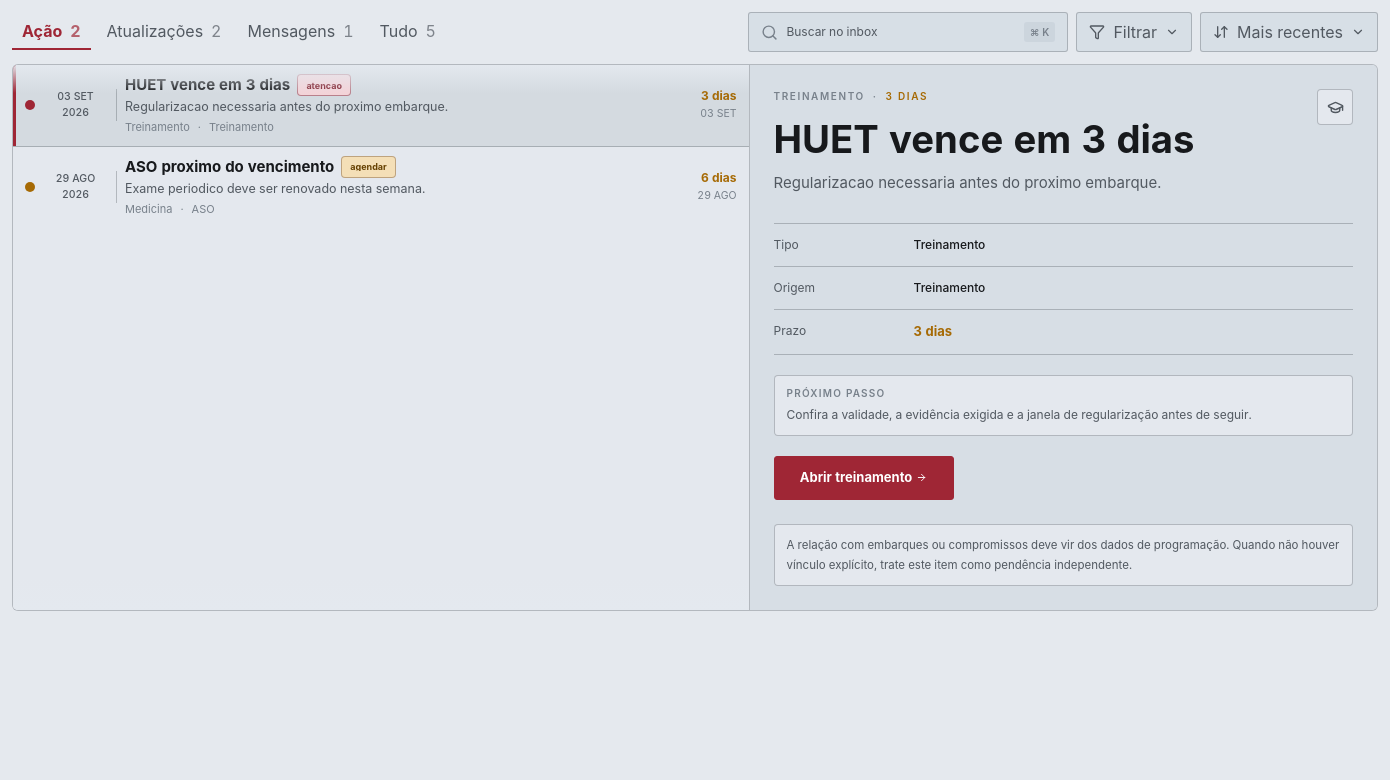
it: InboxPage › renders inbox records from the internal contract fixture seam
Step 1. Click the button "Tudo 5" → click(408, 32), box left=370, top=14, right=446, bottom=50
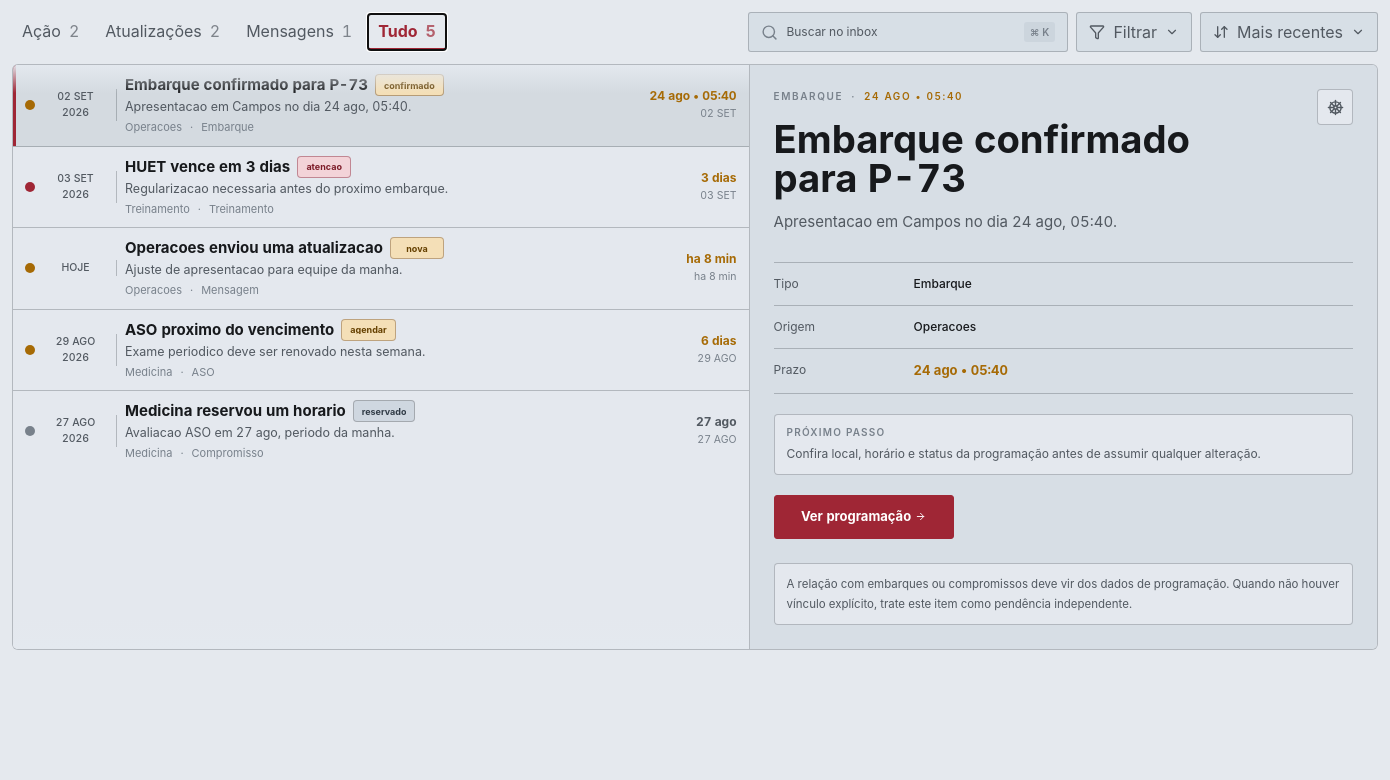
Expected: the 1st text "Apresentacao em Campos no dia 24 ago, 05:40." is shown, left=125, top=99, right=411, bottom=114
